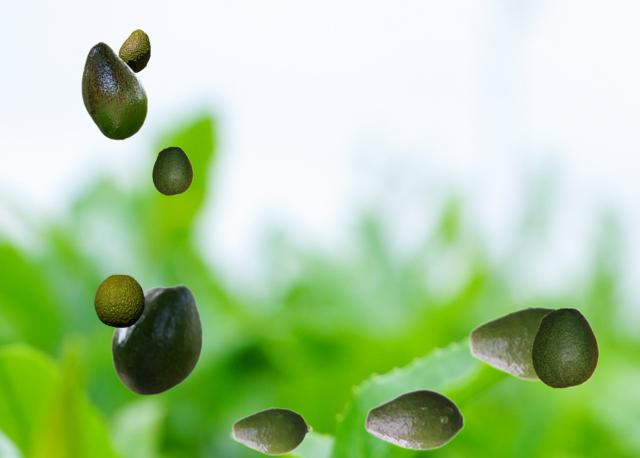avocado: (110, 283, 202, 395), (467, 304, 557, 381), (81, 41, 147, 139), (364, 388, 464, 450), (531, 307, 598, 387), (231, 406, 312, 455), (94, 274, 143, 326), (152, 146, 192, 194), (118, 29, 149, 72)
